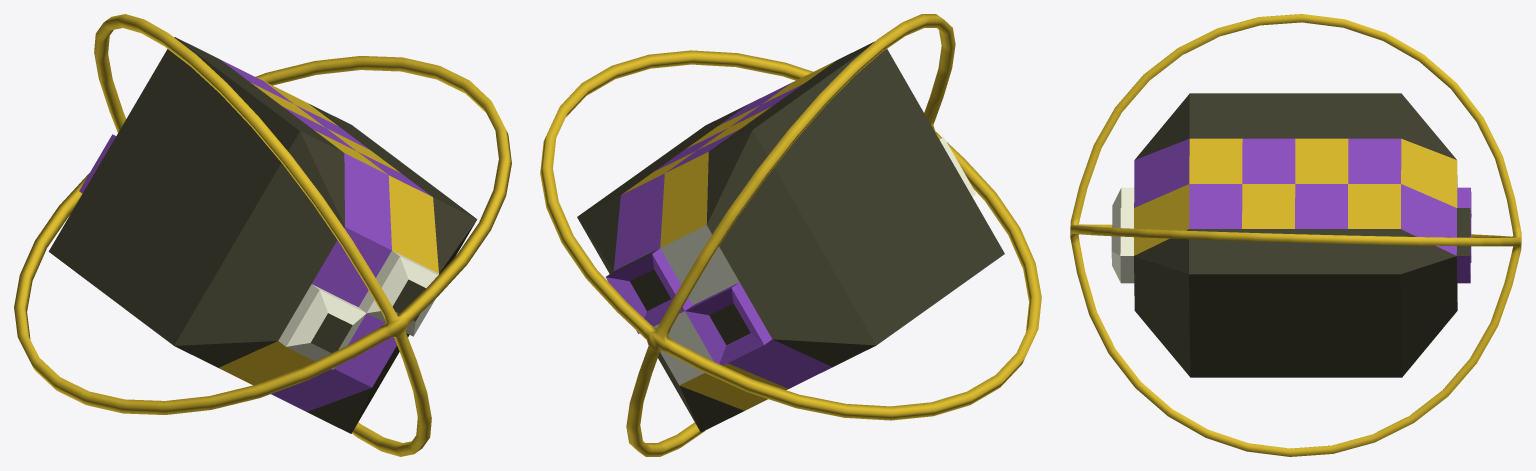
The model's file is Battery.fbx.
The picture shows the model from 3 angles, left to right: view 1: azimuth 30°, elevation 25°; view 2: azimuth 150°, elevation 25°; view 3: azimuth 270°, elevation 25°; orthographic projection. The views are drawn at different scales.
Visible parts, largest first — view 1: BatteryCore, BatteryGyro; view 2: BatteryCore, BatteryGyro; view 3: BatteryCore, BatteryGyro.
Boxes of the visible parts, x1,y1,x2,y2 form: BatteryCore: (48, 37, 477, 433); BatteryGyro: (14, 14, 511, 456); BatteryCore: (577, 41, 1004, 432); BatteryGyro: (540, 14, 1041, 456); BatteryCore: (1111, 93, 1471, 377); BatteryGyro: (1070, 14, 1521, 456).
Size of the model in its own units: 17.66 by 17.66 by 19.57.
